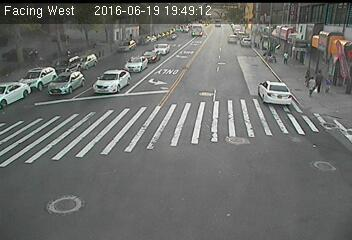neg: (264, 45, 277, 63), (51, 28, 63, 43), (82, 29, 93, 42), (261, 30, 270, 43), (125, 29, 133, 40)
pos: (320, 70, 337, 93), (304, 75, 319, 95), (312, 67, 327, 87), (280, 49, 292, 65)
